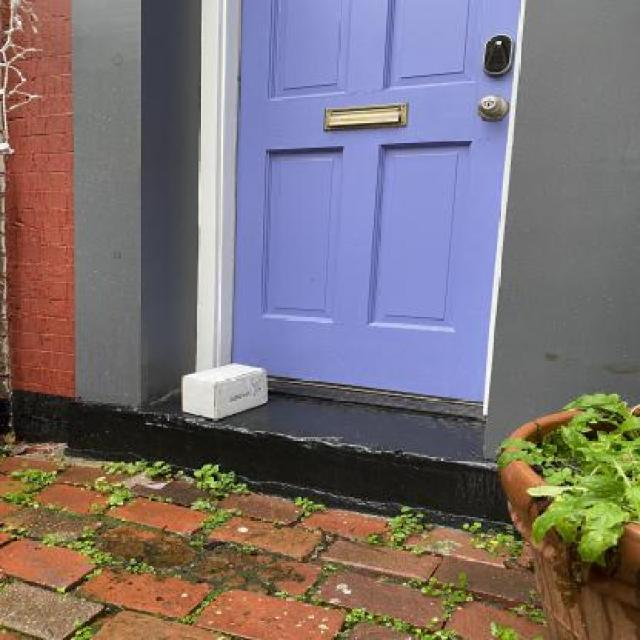cardboxes: (174, 358, 272, 425)
